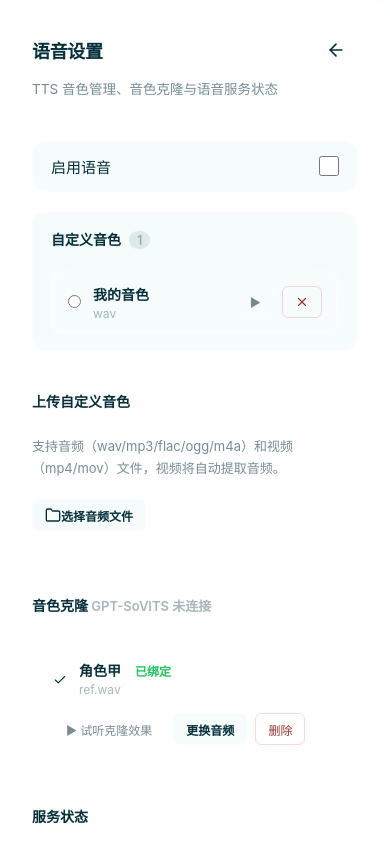
it: VoicePanel 删除：确认框是唯一落点 › 点删除只打开确认框，不发 DELETE
Check: the list item "我的音色 wav ▶" is shown, box [51,271,339,334]
Click the 3rd button at (302, 302), box [282,286,322,318]
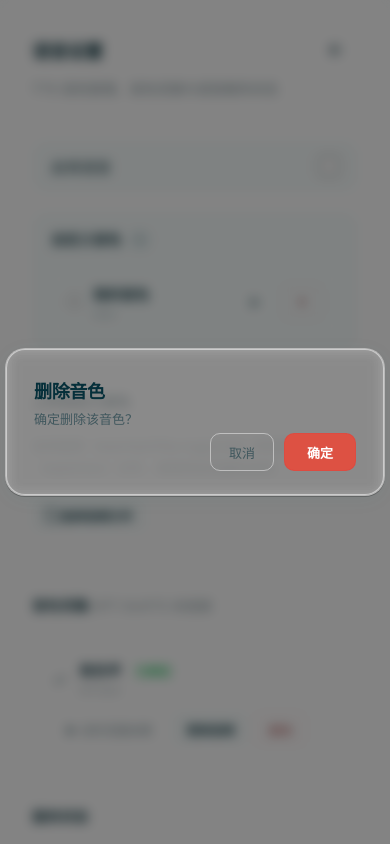
Check: the heading with class "modal-title" reads "删除音色", box [34,381,105,402]
